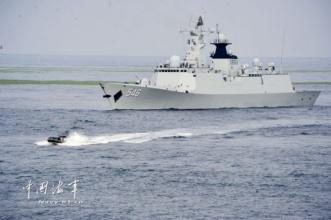warship: (101, 23, 317, 110)
